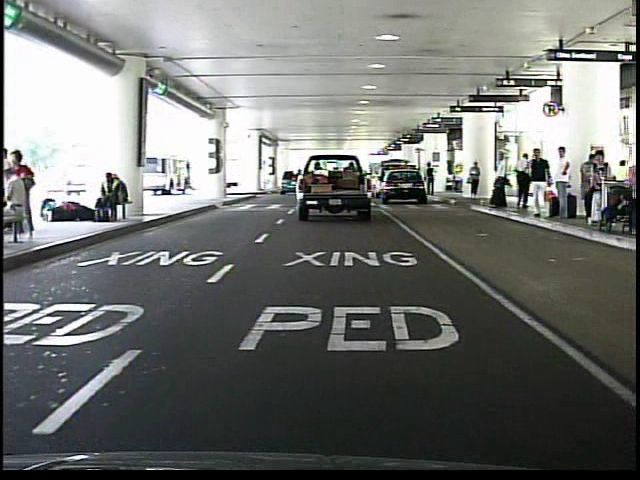person: (552, 142, 577, 227), (527, 145, 554, 223), (488, 150, 513, 214), (466, 160, 482, 202), (424, 159, 437, 197)
